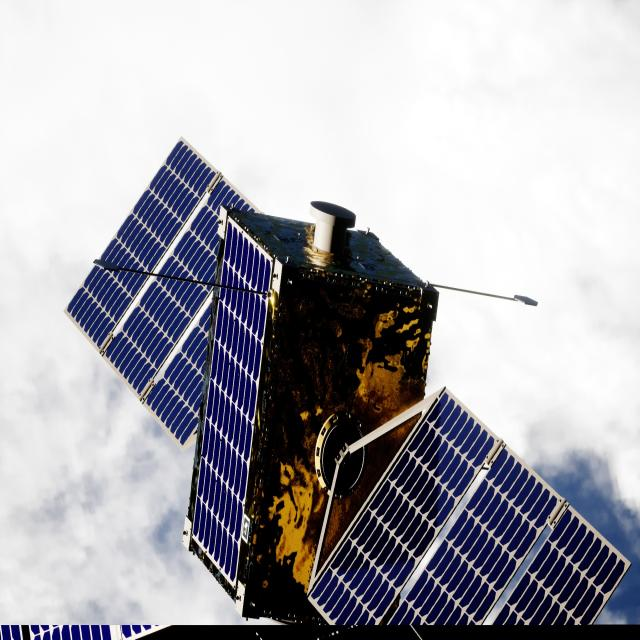satellite: (66, 140, 631, 630)
